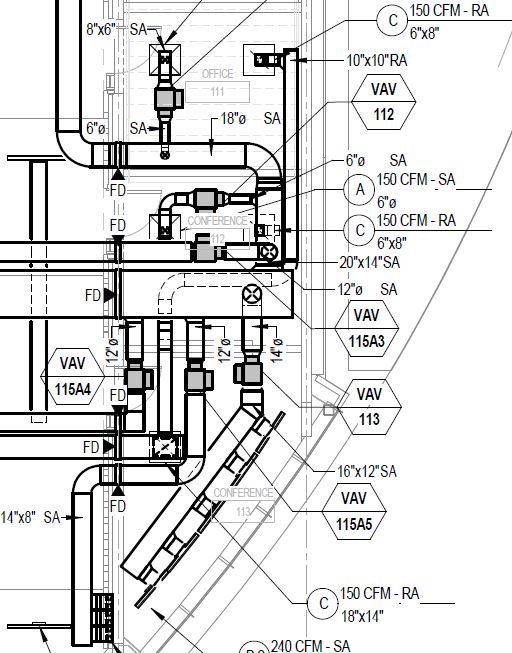VAV: (223, 344, 282, 400), (180, 228, 232, 272), (141, 82, 196, 123), (173, 358, 225, 401), (182, 177, 234, 219), (117, 349, 154, 390)
